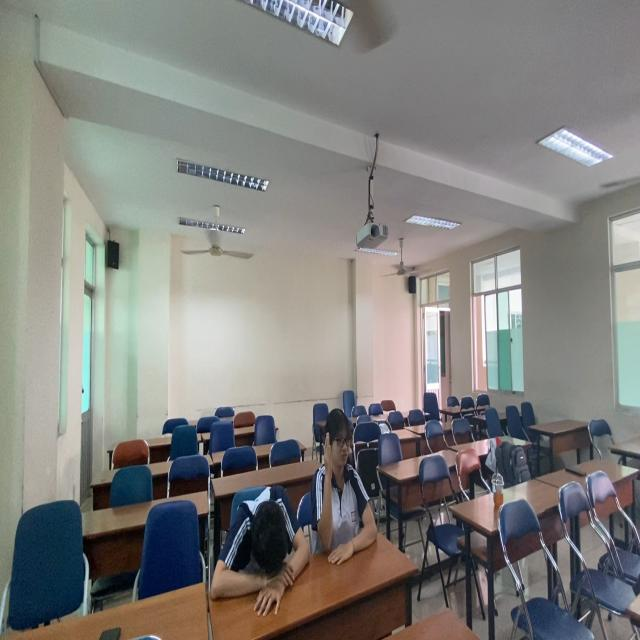raise_hand: (318, 406, 381, 571)
sleep: (211, 476, 314, 627)
